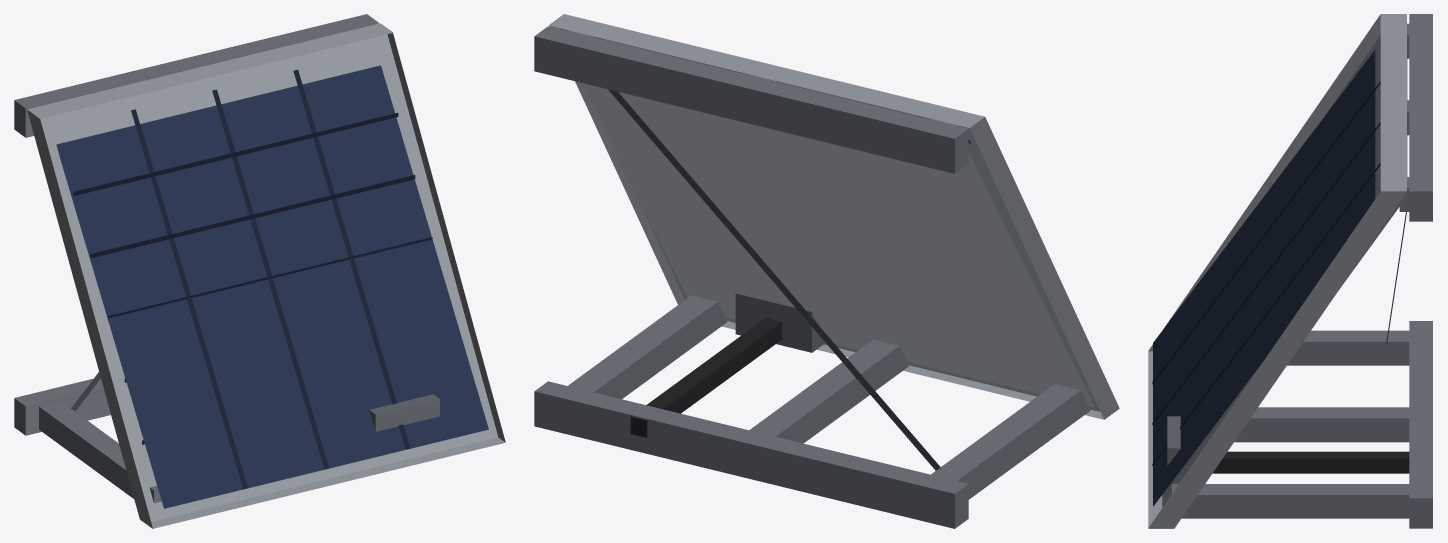
Rendered from array_ground_standard_clear_S.obj.
3 renders of one model, left to right at view 1: azimuth 30°, elevation 25°; view 2: azimuth 150°, elevation 25°; view 3: azimuth 270°, elevation 25°, orthographic. The views are drawn at different scales.
Parts seen in each view (by area): view 1: array_ground_standard_clear_S; view 2: array_ground_standard_clear_S; view 3: array_ground_standard_clear_S.
Part boxes in pixels (bbox=[...]): array_ground_standard_clear_S: bbox=[14, 14, 505, 528]; array_ground_standard_clear_S: bbox=[534, 14, 1119, 528]; array_ground_standard_clear_S: bbox=[1148, 14, 1432, 528].
Size of the model in its own units: 0.881 by 0.781 by 0.5989.
Materials: 1 (1 with a texture image).
